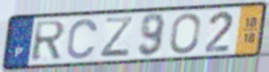2: (203, 9, 236, 55)
9: (137, 12, 165, 59)
C: (65, 17, 100, 61)
O: (168, 12, 202, 56)
R: (30, 19, 68, 63)
Z: (98, 15, 135, 59)
